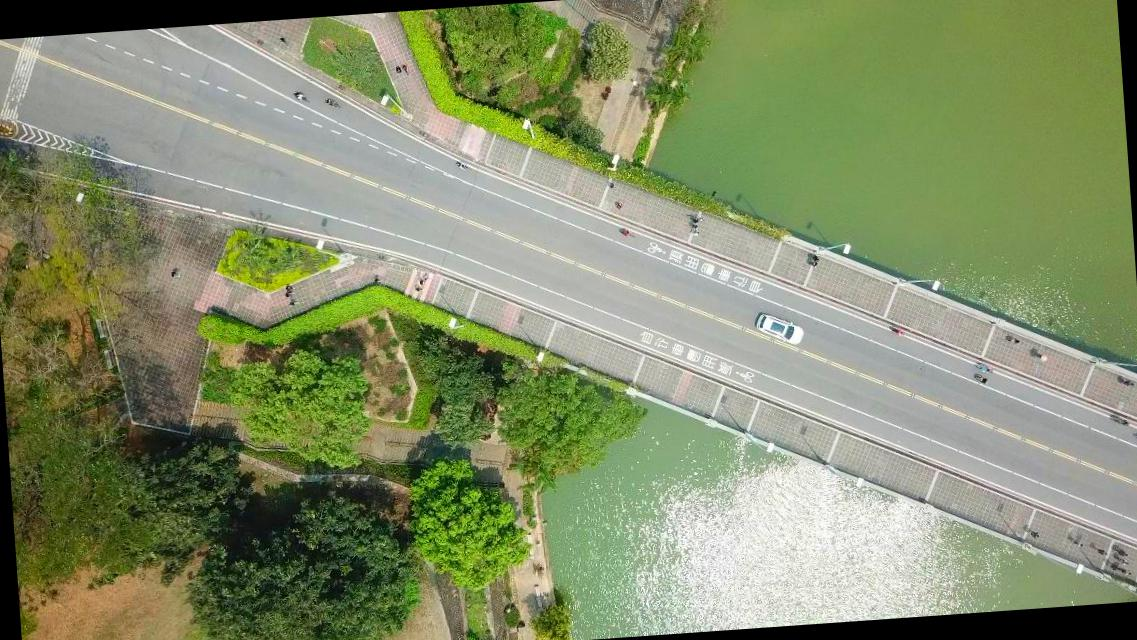vehicle: (752, 310, 803, 348)
